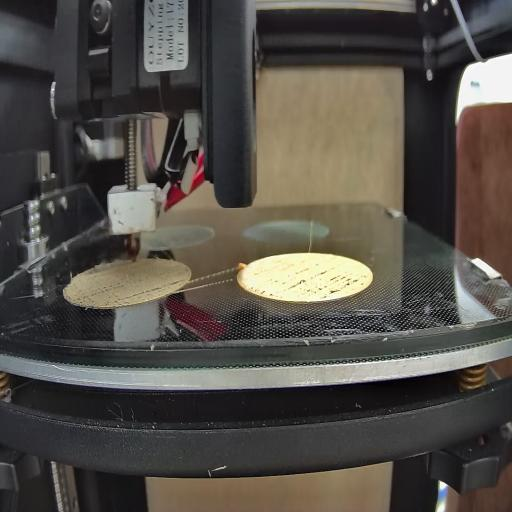under_extrusion: (260, 265, 367, 299), (80, 275, 192, 304)
